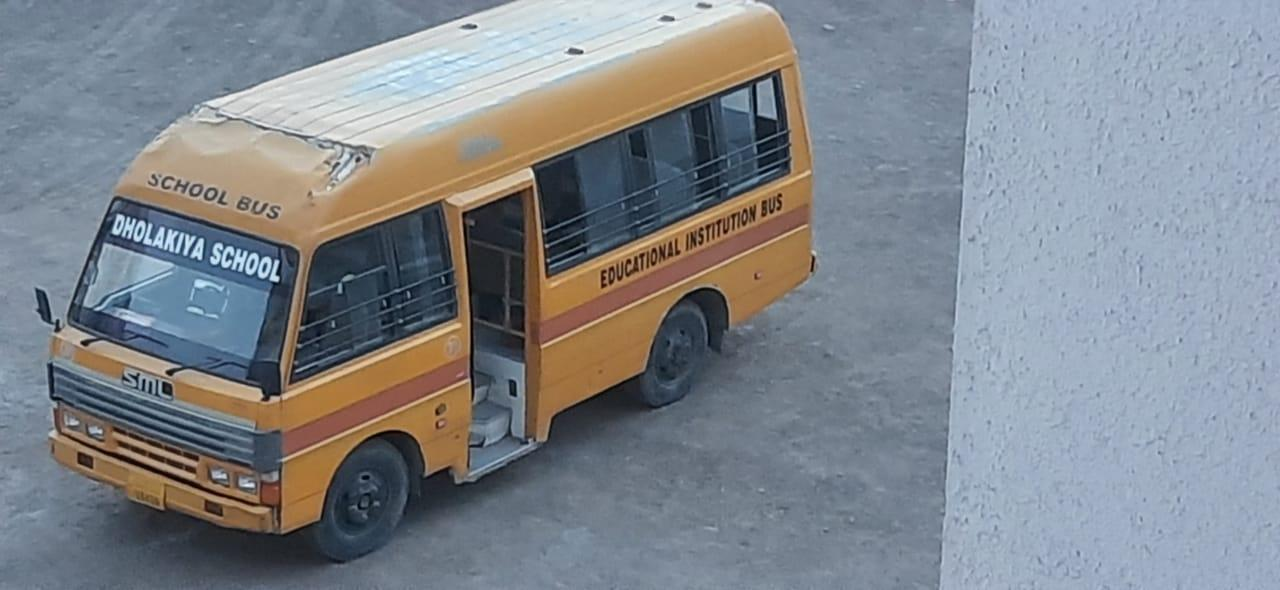Bus: (26, 44, 854, 536)
